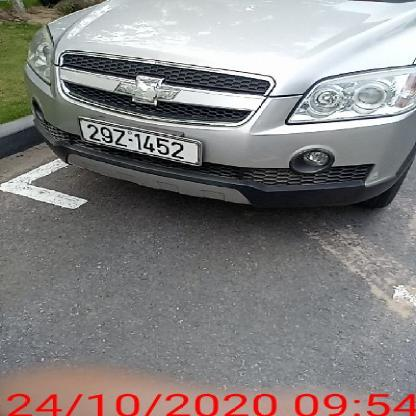biensoxe: (79, 113, 207, 172)
